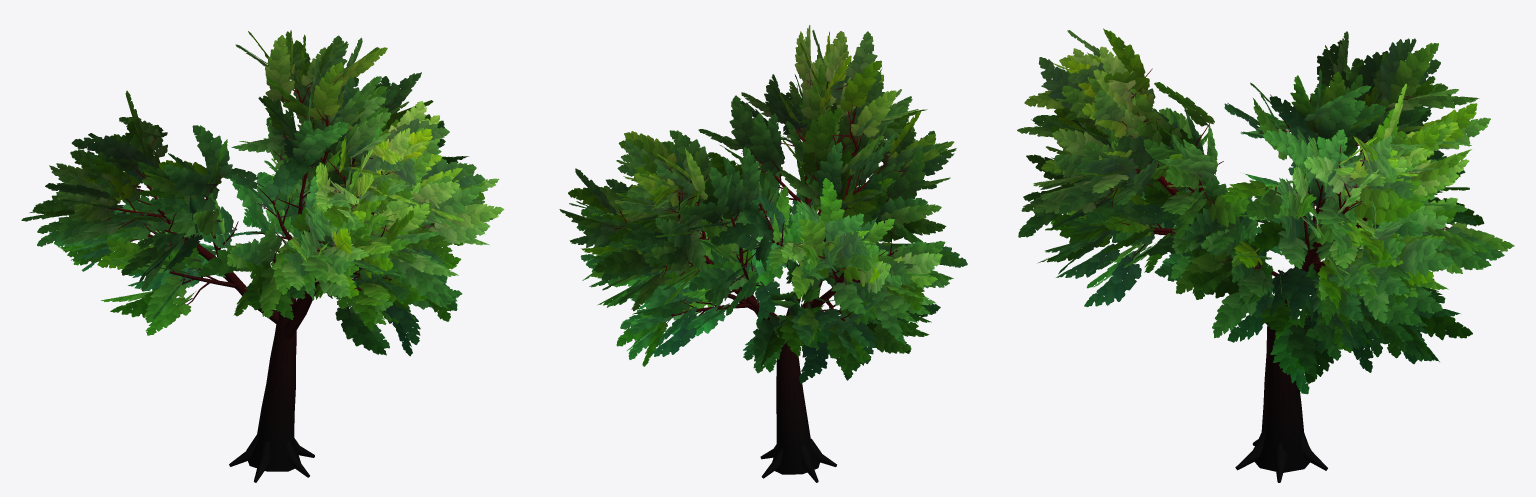
Rendered from SM_Tree_Oak_LOD1.gltf.
3 views of the same model, side by side, from view 1: azimuth 30°, elevation 25°; view 2: azimuth 150°, elevation 25°; view 3: azimuth 270°, elevation 25° (orthographic). The views are drawn at different scales.
Visible parts, largest first — view 1: SM_Tree_Oak_LOD1; view 2: SM_Tree_Oak_LOD1; view 3: SM_Tree_Oak_LOD1.
Boxes of the visible parts, <box> form: SM_Tree_Oak_LOD1: <box>21,30,504,482</box>; SM_Tree_Oak_LOD1: <box>559,25,967,482</box>; SM_Tree_Oak_LOD1: <box>1017,28,1514,482</box>.
Bounding box in the file's own units: 7.05 × 6.62 × 6.63.
Materials: 2 (2 with a texture image).
